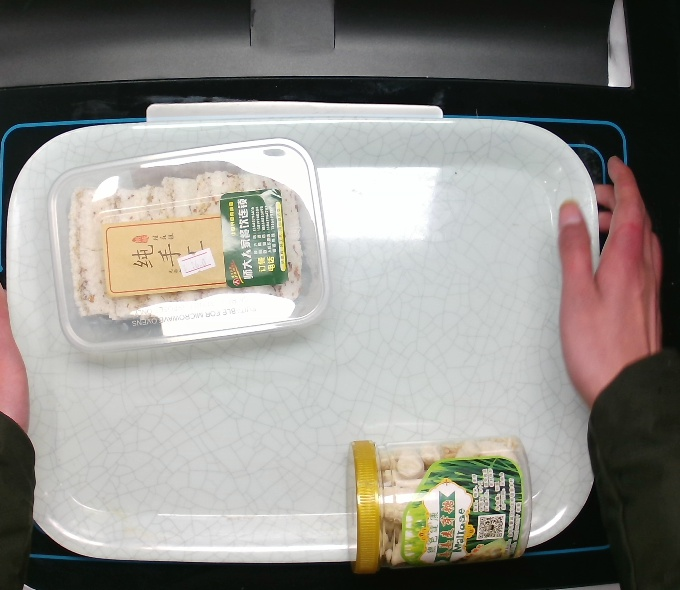wcq-GuiHuaGao: (43, 135, 337, 358)
wcq-MaiYaTang: (341, 434, 537, 579)
